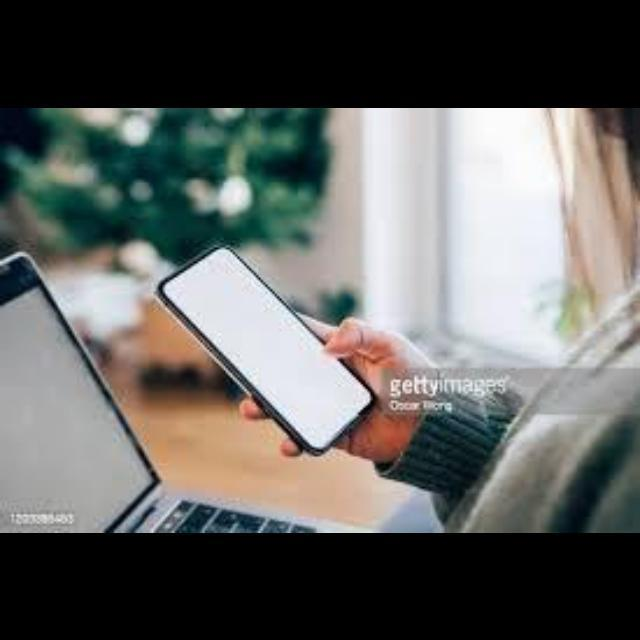PhoneUse: (153, 242, 420, 446)
